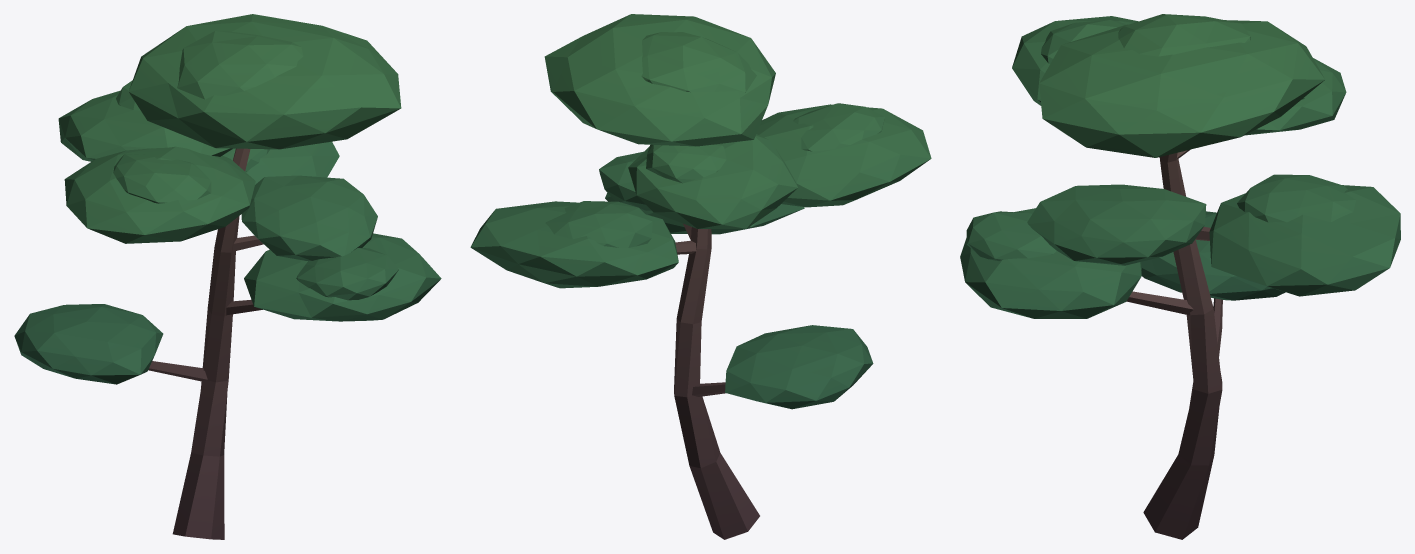
File: pine_a.glb
3 renders of one model, left to right at view 1: azimuth 30°, elevation 25°; view 2: azimuth 150°, elevation 25°; view 3: azimuth 270°, elevation 25°, orthographic. The views are drawn at different scales.
Parts seen in each view (by area): view 1: pine_a; view 2: pine_a; view 3: pine_a.
Boxes of the visible parts, box(x1,y1,x2,y2) form: pine_a: box(14, 14, 441, 539); pine_a: box(470, 14, 931, 539); pine_a: box(960, 14, 1400, 539).
Size of the model in its own units: 5.35 by 7.21 by 5.4.
